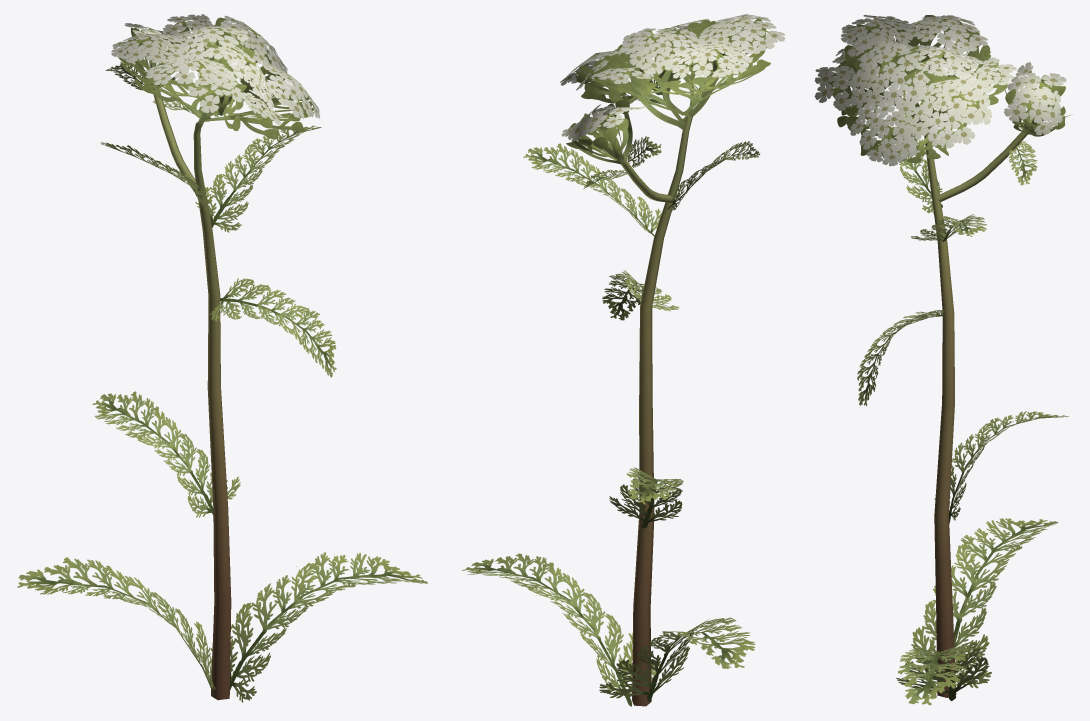
Rendered from SM_Plant_Grass_Yarrow_02.gltf.
3 views of the same model, side by side, from view 1: azimuth 30°, elevation 25°; view 2: azimuth 150°, elevation 25°; view 3: azimuth 270°, elevation 25° (orthographic). The views are drawn at different scales.
Visible parts, largest first — view 1: SM_Plant_Grass_Yarrow_02; view 2: SM_Plant_Grass_Yarrow_02; view 3: SM_Plant_Grass_Yarrow_02.
Boxes of the visible parts, x1,y1,x2,y2 form: SM_Plant_Grass_Yarrow_02: [17, 14, 427, 702]; SM_Plant_Grass_Yarrow_02: [461, 14, 785, 706]; SM_Plant_Grass_Yarrow_02: [814, 15, 1071, 705].
Size of the model in its own units: 0.2042 by 0.3816 by 0.1405.
1 material, 1 textured.
